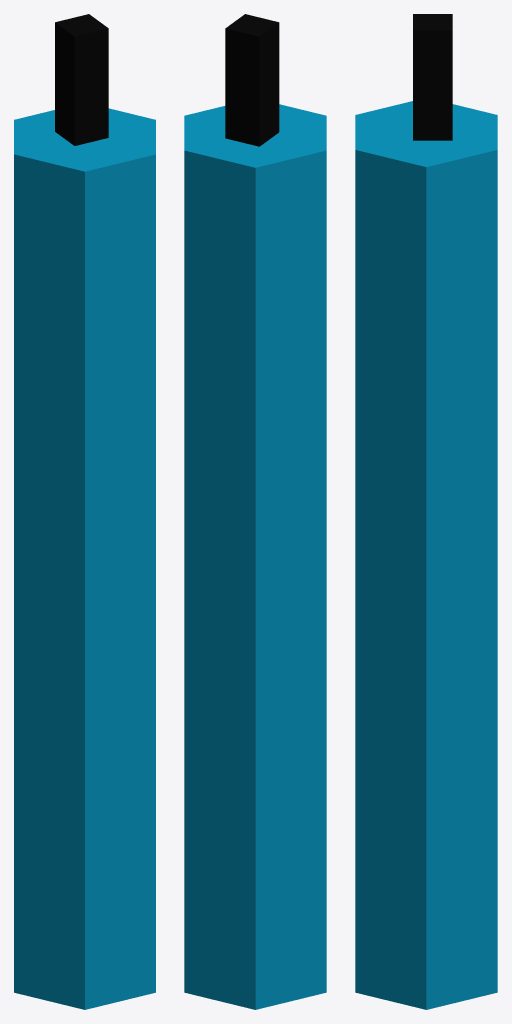
Rendered from kynttila2_blue.FBX.
The picture shows the model from 3 angles, left to right: view 1: azimuth 30°, elevation 25°; view 2: azimuth 150°, elevation 25°; view 3: azimuth 270°, elevation 25°; orthographic projection.
Visible parts, largest first — view 1: Kynttila2_blue; view 2: Kynttila2_blue; view 3: Kynttila2_blue.
Boxes of the visible parts, x1,y1,x2,y2 form: Kynttila2_blue: (14,14,155,1009); Kynttila2_blue: (184,14,326,1009); Kynttila2_blue: (355,14,497,1009).
Bounding box in the file's own units: 10 × 63.9 × 8.66.
